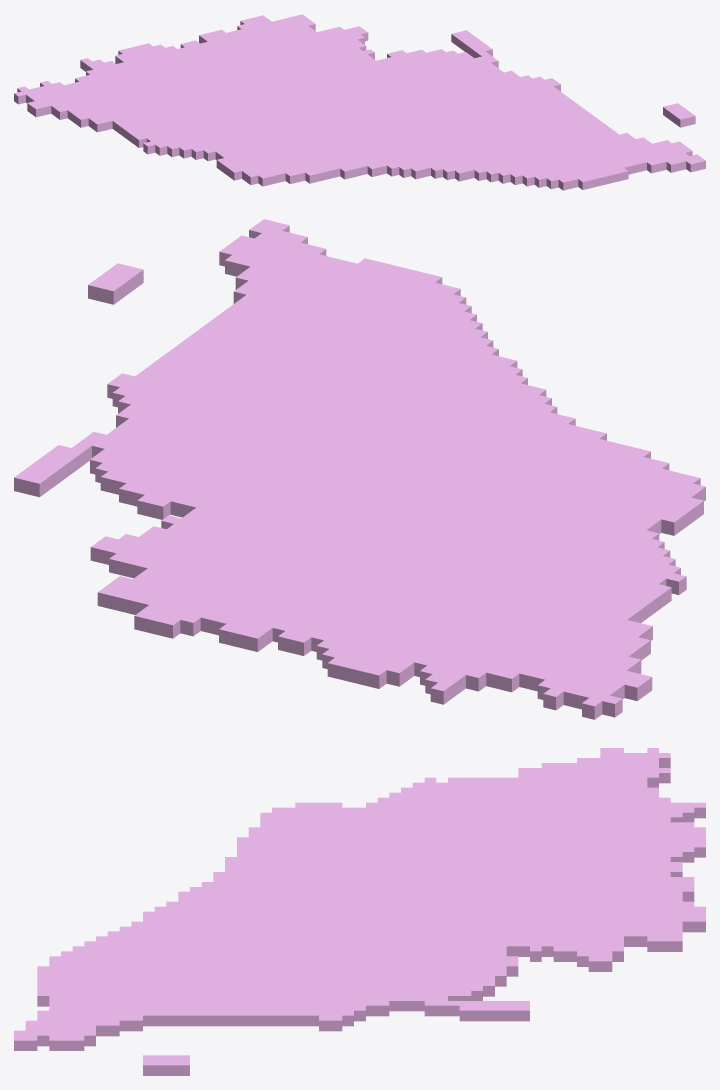
File: Pahang.fbx
The picture shows the model from 3 angles, top to bottom: view 1: azimuth 30°, elevation 25°; view 2: azimuth 150°, elevation 25°; view 3: azimuth 270°, elevation 25°; orthographic projection. The views are drawn at different scales.
Parts seen in each view (by area): view 1: Pahang; view 2: Pahang; view 3: Pahang.
Part boxes in pixels (x1,y1,x2,y2): Pahang: (14,14,705,190); Pahang: (14,219,705,719); Pahang: (14,748,705,1075).
Size of the model in its own units: 64 by 1 by 59.
1 material, 1 textured.
